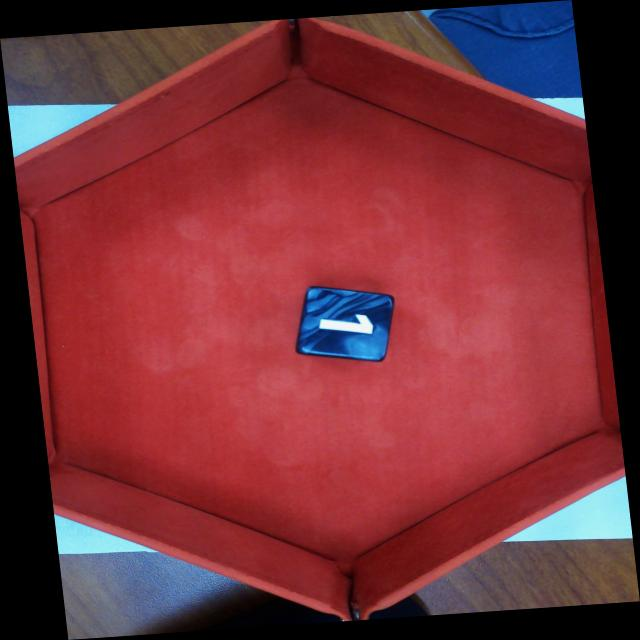dice: (302, 287, 394, 355)
